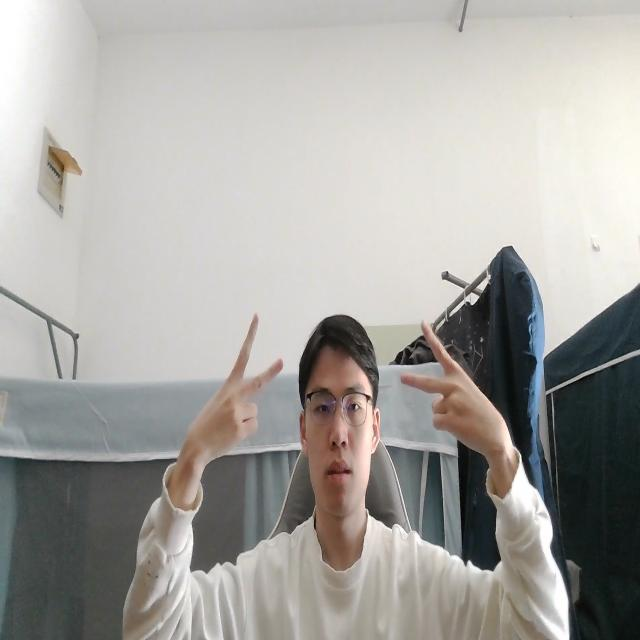yes: (166, 306, 288, 490), (396, 315, 514, 466)
